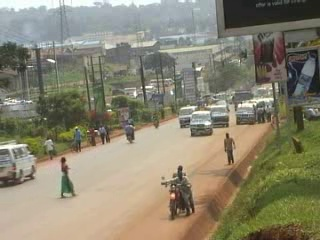Car: (210, 98, 229, 112)
Motorcycle: (158, 173, 197, 221), (124, 123, 137, 145), (152, 112, 160, 130)
